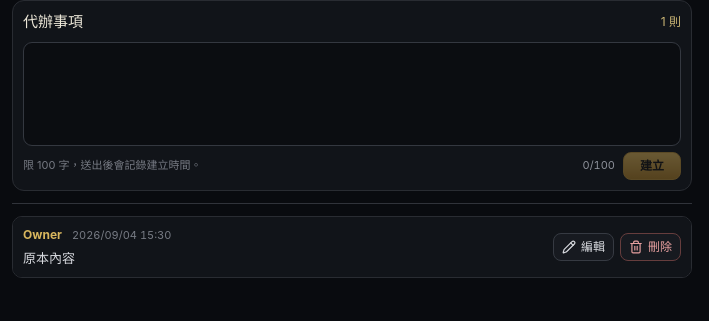
Test: AdminTodos › handles a failed confirmation and releases the delete lock for retry
Click the button "刪除". click: (650, 247)
box: [620,233,681,261]
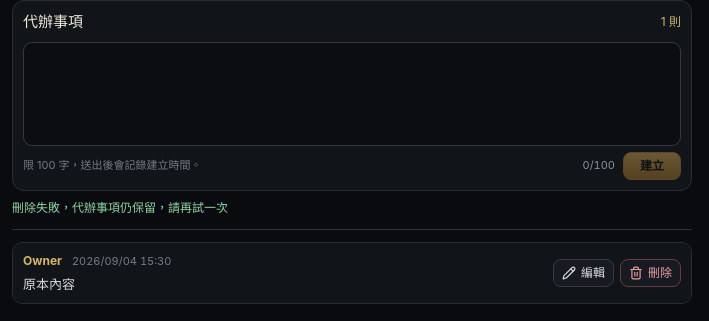
Expected: the button "刪除" is enabled, [620,259,681,287]
Expected: the text "刪除失敗" is shown, [12,200,228,214]
